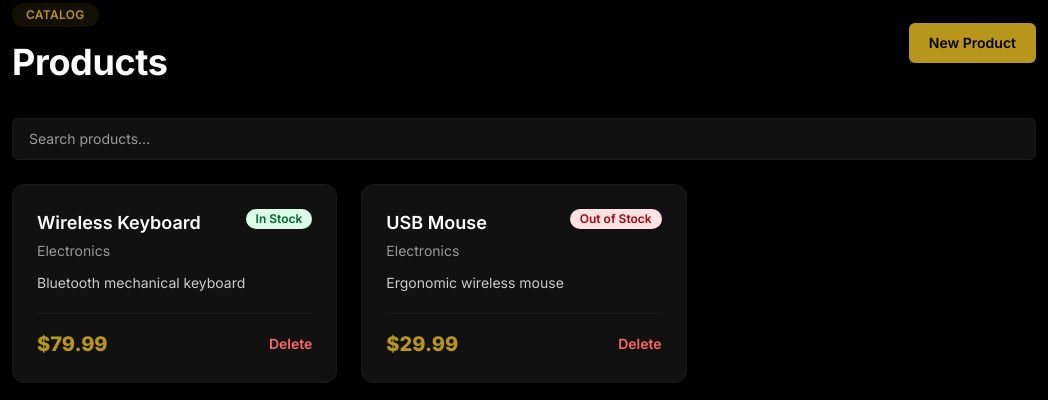
Test: ProductList › filters products by description via the search bar
Expected: the link "USB Mouse" is shown, x1=386 y1=212 x2=487 y2=233
Type "ergonomic" into the search field labelled "Search products…". click: point(524, 139)
box: x1=12 y1=118 x2=1036 y2=160
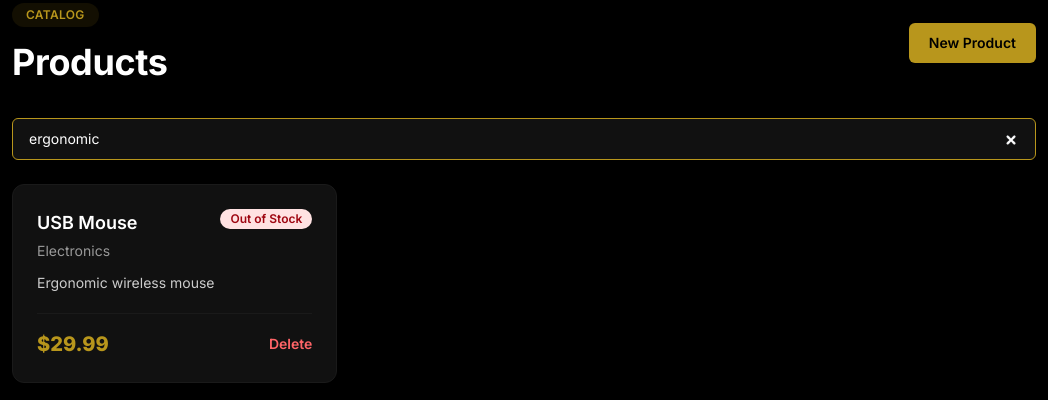
Expected: the link "USB Mouse" is shown, x1=37 y1=212 x2=138 y2=233
Now the link "Wireless Keyboard" is gone
